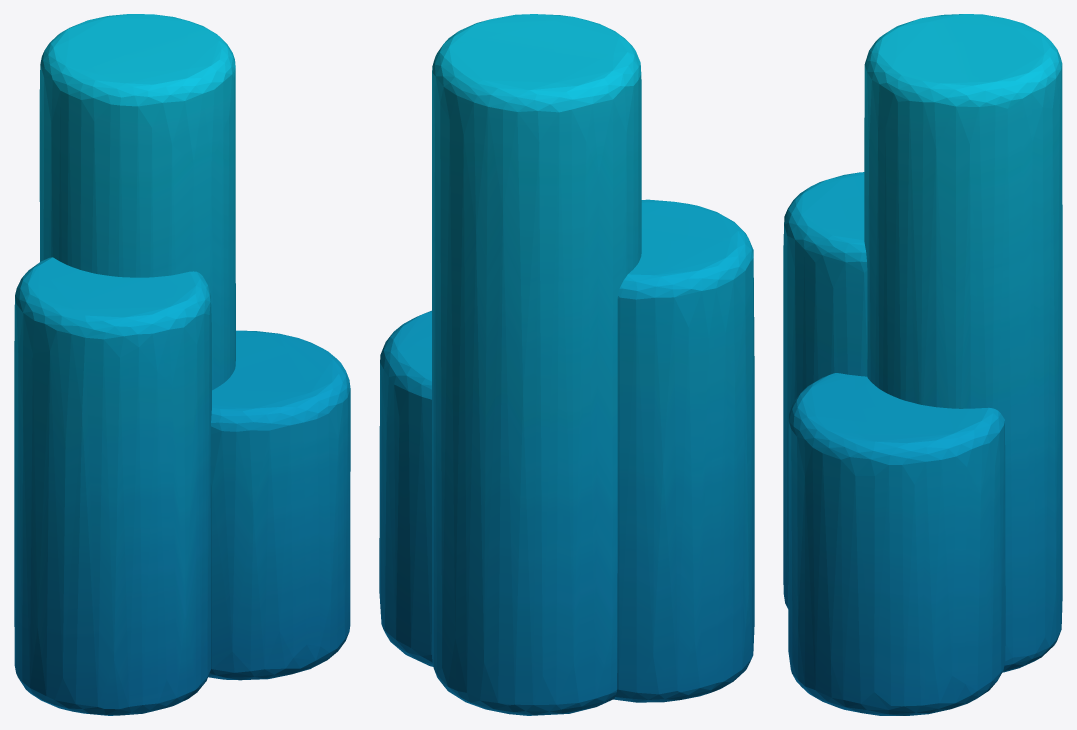
Rendered from GasResourse1.glb.
The picture shows the model from 3 angles, left to right: view 1: azimuth 30°, elevation 25°; view 2: azimuth 150°, elevation 25°; view 3: azimuth 270°, elevation 25°; orthographic projection. The views are drawn at different scales.
Visible parts, largest first — view 1: Cylinder; view 2: Cylinder; view 3: Cylinder.
Boxes of the visible parts, box(x1,y1,x2,y2) form: Cylinder: box(14, 14, 350, 715); Cylinder: box(379, 14, 754, 715); Cylinder: box(783, 14, 1062, 715).
Size of the model in its own units: 0.7867 by 1.4 by 0.5984.
1 material, 1 textured.
